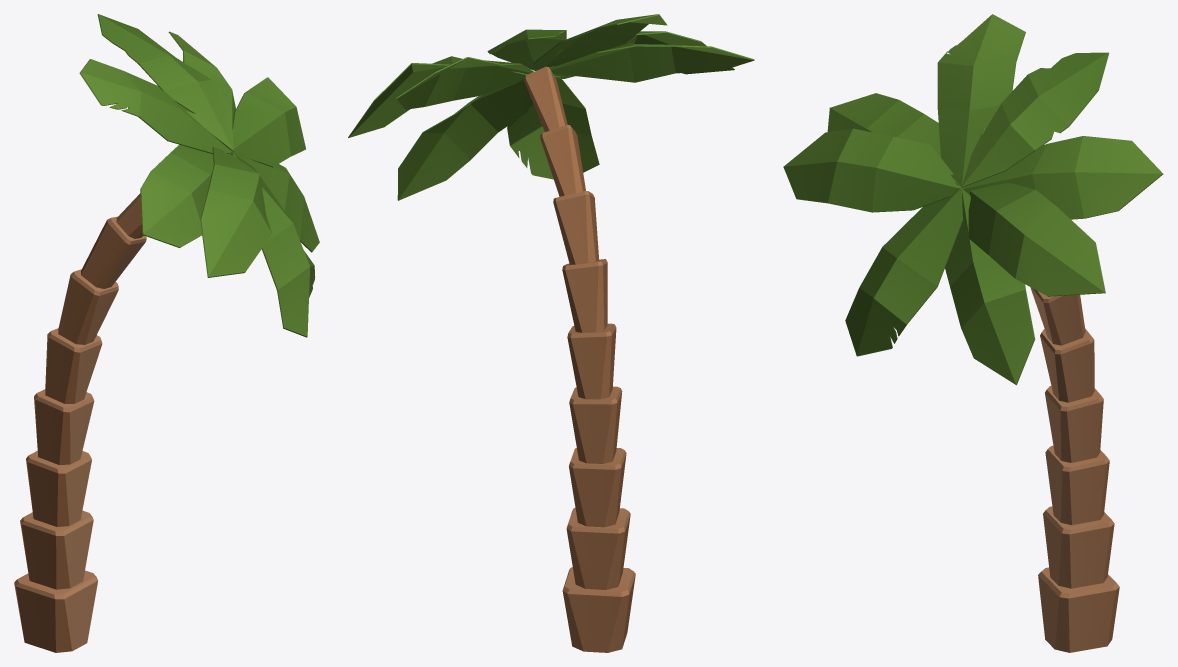
The model's file is 1Stad.fbx.
3 views of the same model, side by side, from view 1: azimuth 30°, elevation 25°; view 2: azimuth 150°, elevation 25°; view 3: azimuth 270°, elevation 25° (orthographic). The views are drawn at different scales.
Parts seen in each view (by area): view 1: Cube.005; view 2: Cube.005; view 3: Cube.005.
Boxes of the visible parts, x1,y1,x2,y2 form: Cube.005: (14,14,319,652); Cube.005: (348,14,754,652); Cube.005: (783,14,1163,652).
Bounding box in the file's own units: 94.15 × 197 × 110.
